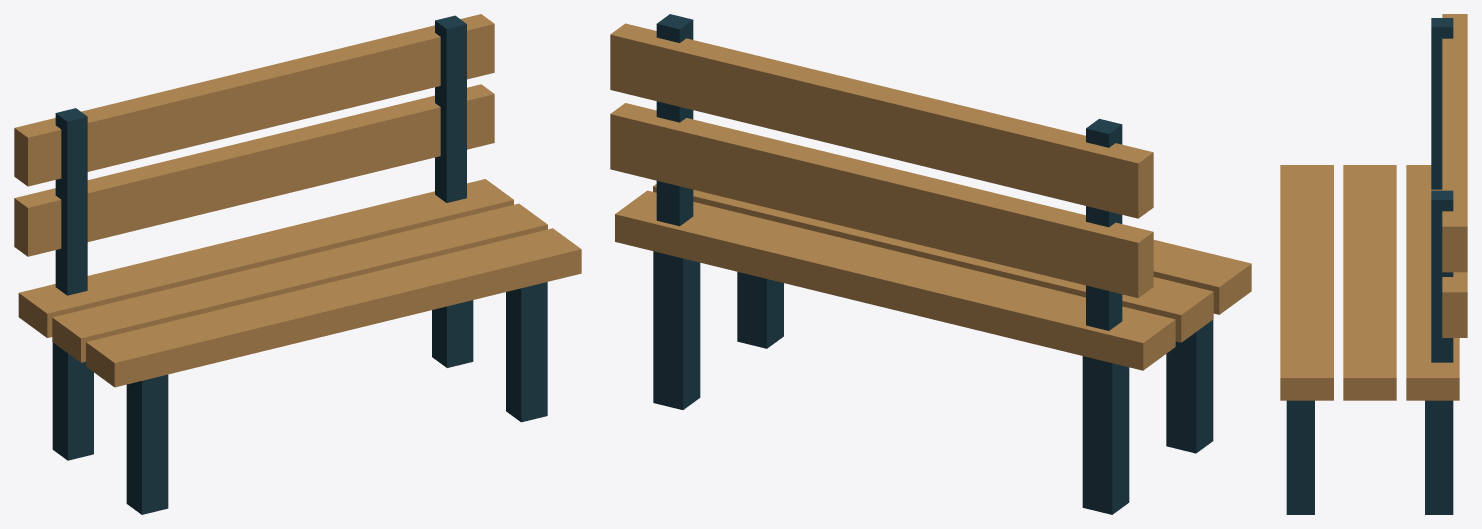
The model's file is promenade_bench.glb.
The picture shows the model from 3 angles, left to right: view 1: azimuth 30°, elevation 25°; view 2: azimuth 150°, elevation 25°; view 3: azimuth 270°, elevation 25°; orthographic projection. The views are drawn at different scales.
Parts seen in each view (by area): view 1: promenade_bench_pc; view 2: promenade_bench_pc; view 3: promenade_bench_pc.
Part boxes in pixels (x1=…): promenade_bench_pc: x1=14, y1=14, x2=581, y2=514; promenade_bench_pc: x1=610, y1=14, x2=1251, y2=514; promenade_bench_pc: x1=1280, y1=14, x2=1467, y2=514.
Size of the model in its own units: 1.6 by 1.1 by 0.595.
